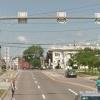Car: (63, 65, 78, 82)
